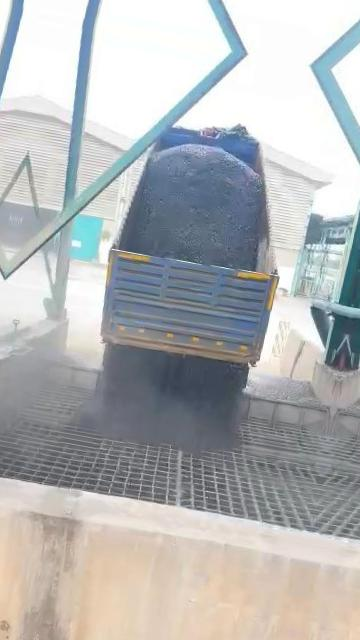gravel: (90, 347, 247, 453), (246, 372, 322, 407)
